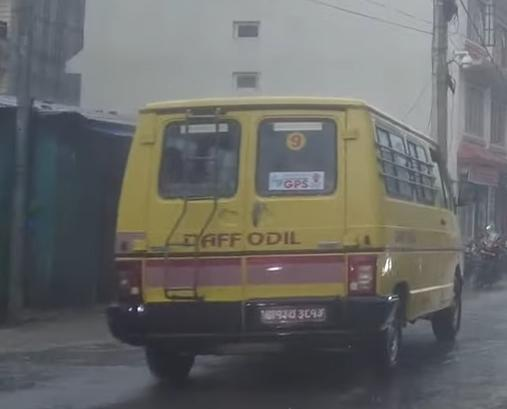school_bus: (96, 88, 463, 382)
